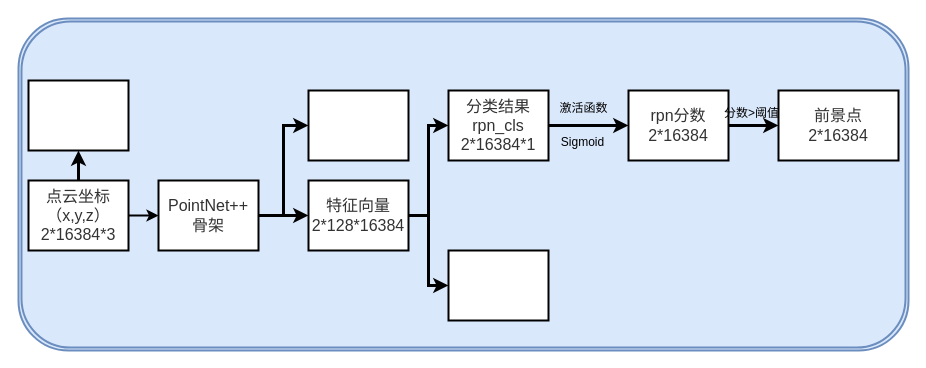
Image size: 926x368. Some labels were removed from this diagram. The shapes that lost their labels are listed below. From the top down, each one's centre as x and y in pixels, then its label:
At point 78,115: "深度信息 2*16384".
At point 358,125: "点云坐标 （x,y,z） 2*16384*3".
At point 498,285: "回归结果 rpn_reg 2*16384*76".
